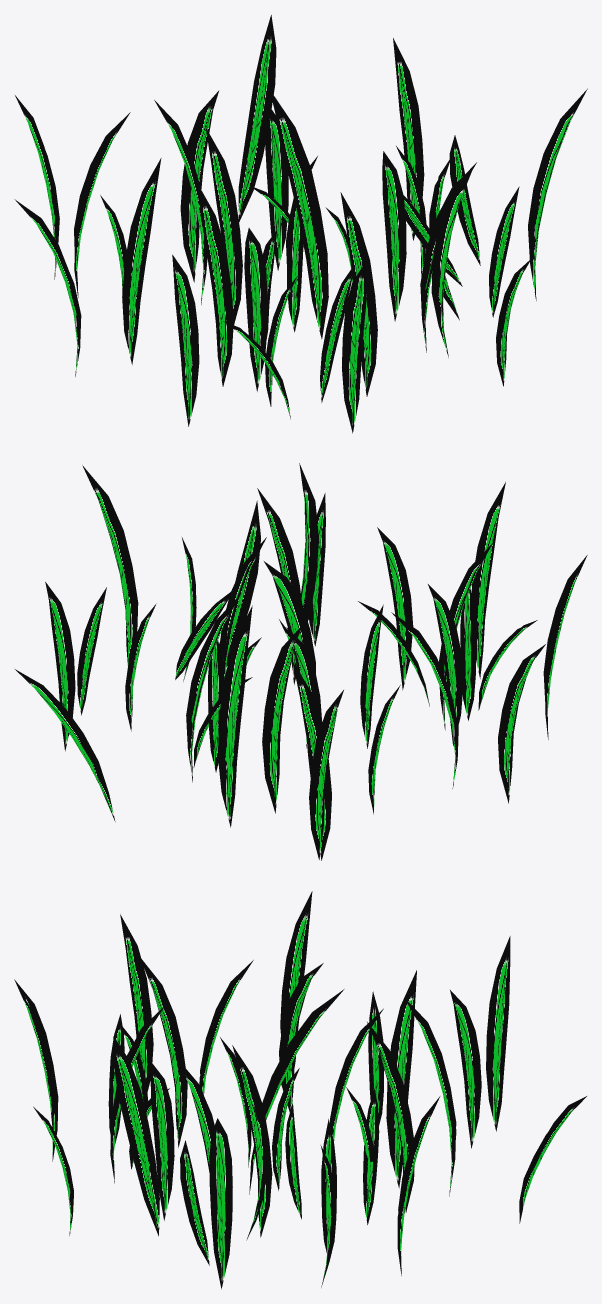
Rendered from Grass.fbx.
3 renders of one model, top to bottom at view 1: azimuth 30°, elevation 25°; view 2: azimuth 150°, elevation 25°; view 3: azimuth 270°, elevation 25°, orthographic. The views are drawn at different scales.
Parts seen in each view (by area): view 1: Grass; view 2: Grass; view 3: Grass.
Boxes of the visible parts, x1,y1,x2,y2 form: Grass: (14, 15, 587, 433); Grass: (15, 463, 587, 860); Grass: (14, 891, 586, 1289).
Size of the model in its own units: 75.69 by 31.56 by 74.76.
